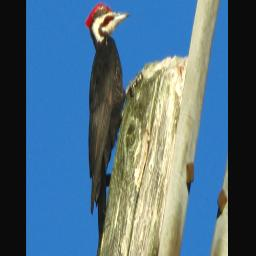Woodpecker: (51, 0, 148, 256)
